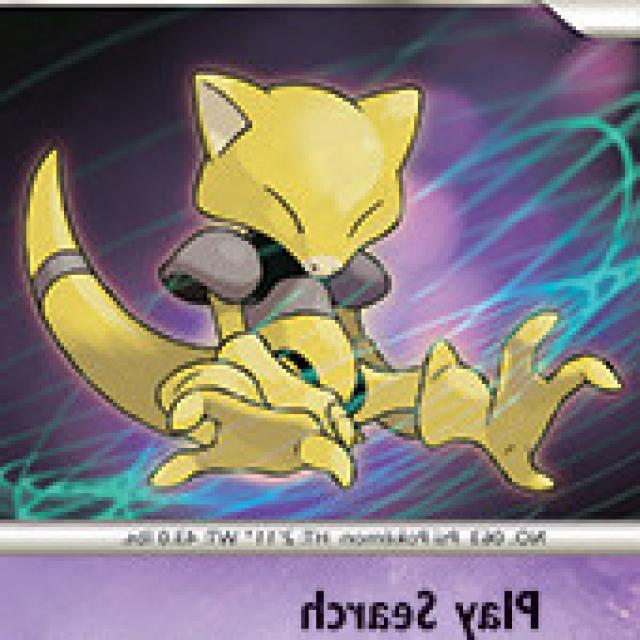Abra: (139, 67, 425, 444)
